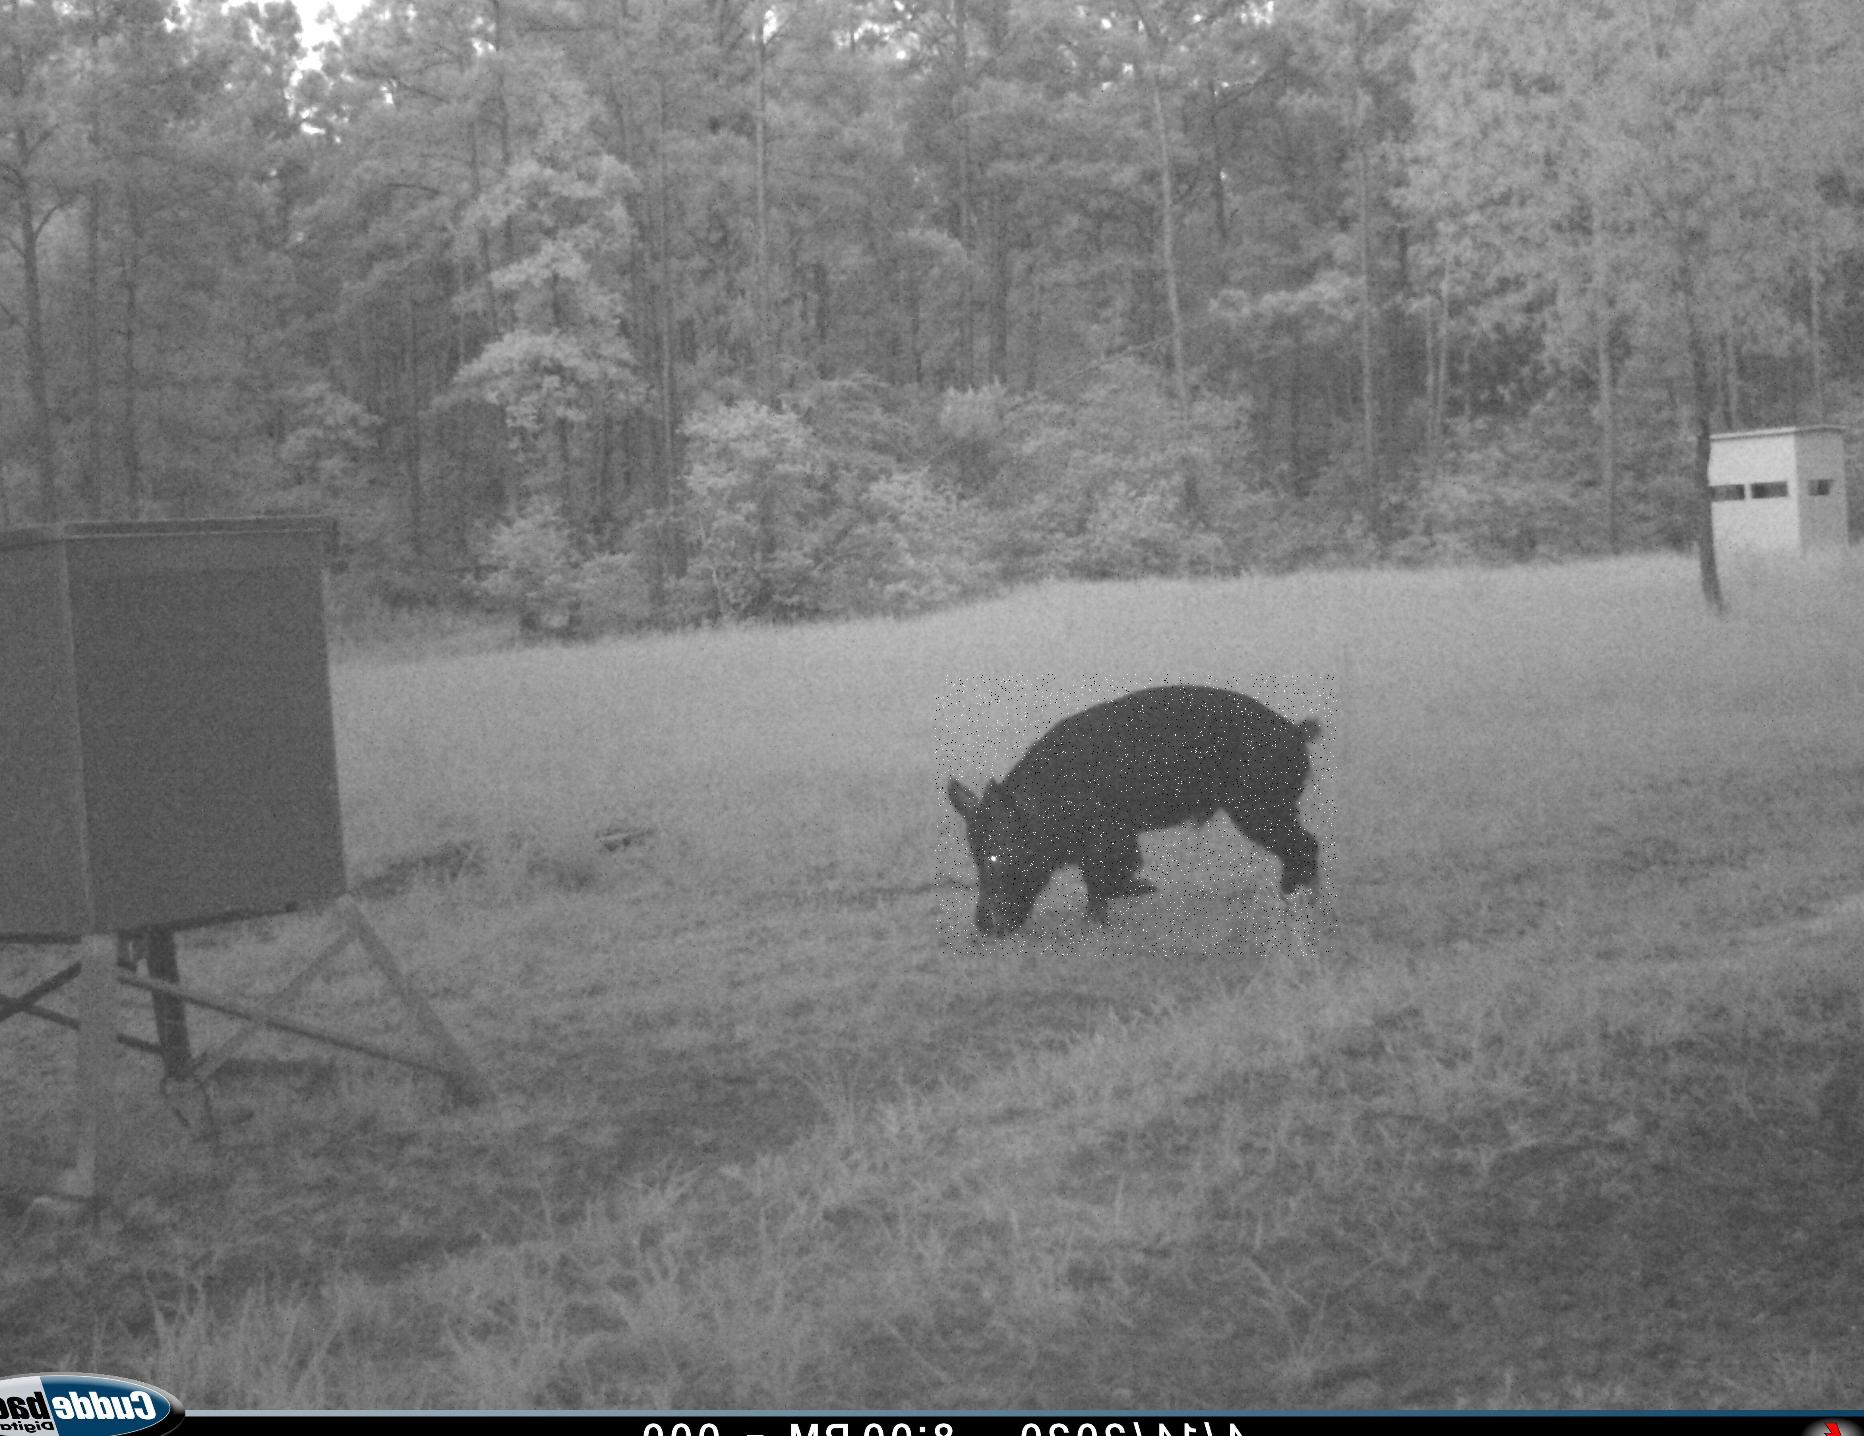Hog: (935, 674, 1338, 956)
